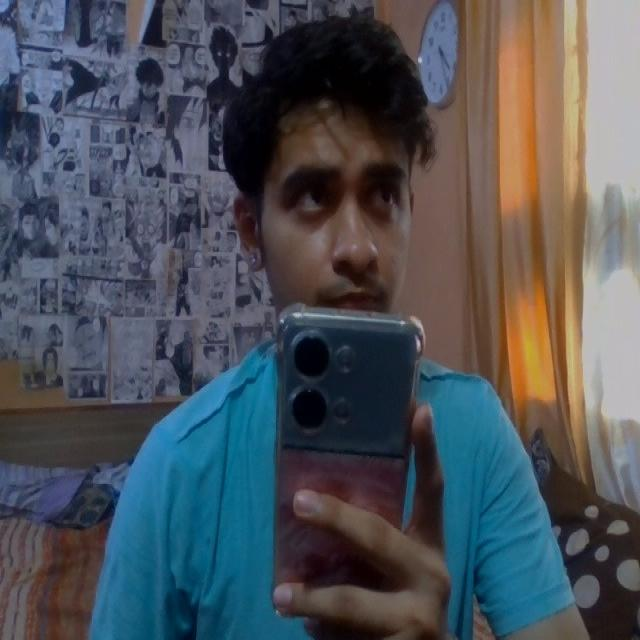phone: (269, 308, 408, 614)
using-phone: (86, 22, 587, 640)
